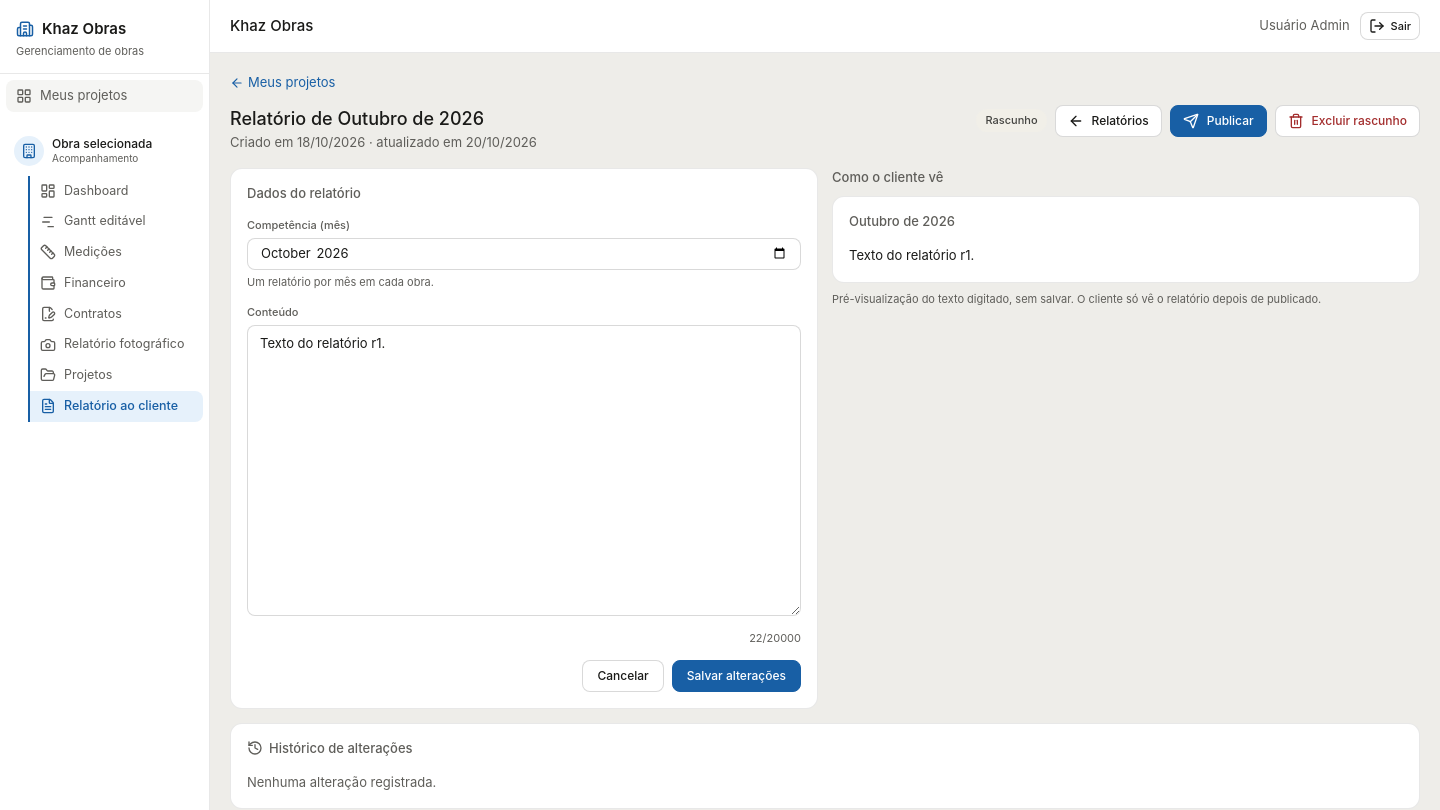
Test case: Relatório ao cliente (admin) - cache da visão do cliente › excluir também invalida o cache do cliente (lista do cliente relida)
The image size is (1440, 810).
Expected: the text box labelled "Conteúdo" is shown, [247, 325, 801, 616]
// Excluir o rascunho relê a lista do cliente (ela está montada).
Click the button "Excluir rascunho" at (1347, 120), box [1275, 104, 1420, 136]
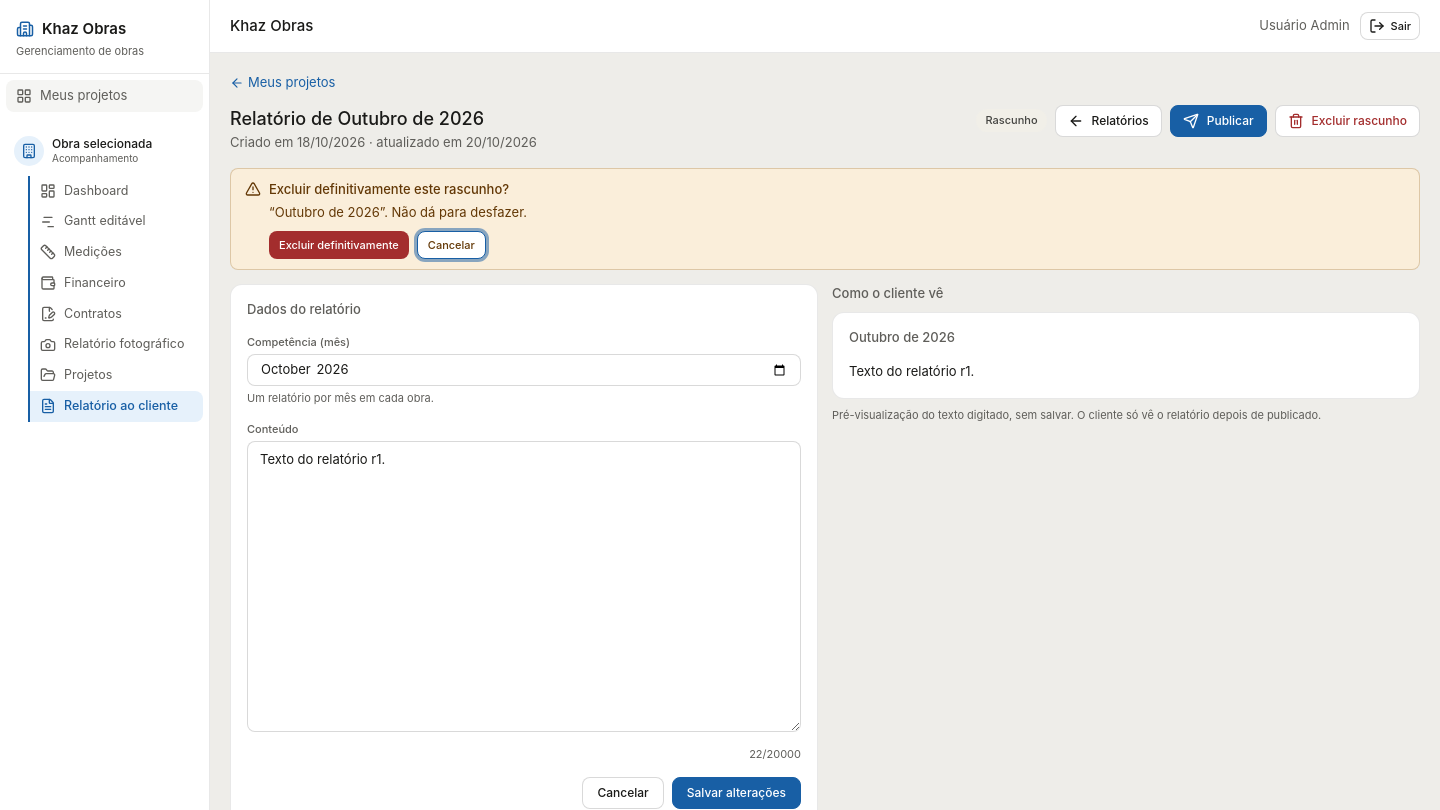
Click the button "Excluir definitivamente" at (339, 245), box [269, 231, 409, 259]
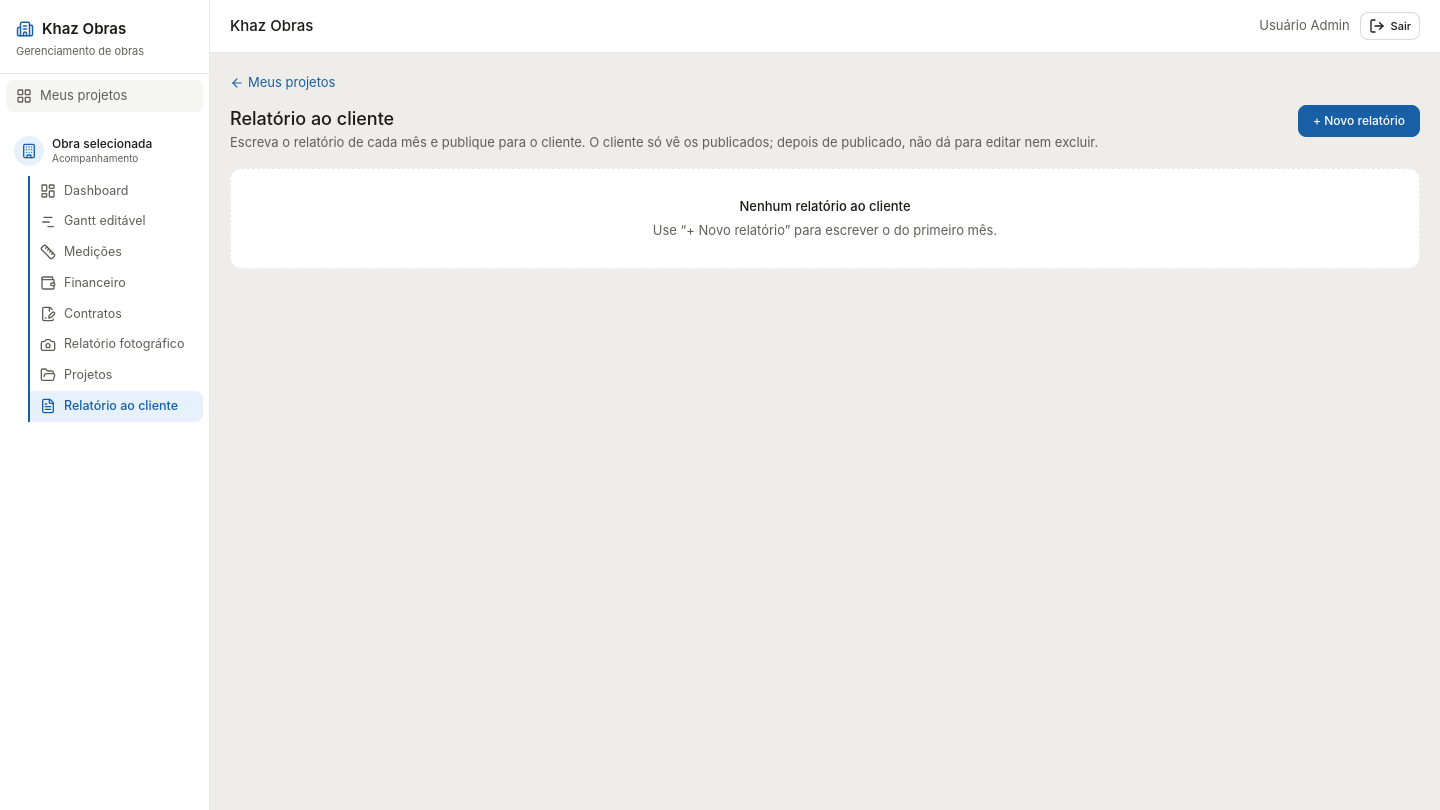
Result: the text "Nenhum relatório ao cliente" is shown at [740, 198, 910, 214]
